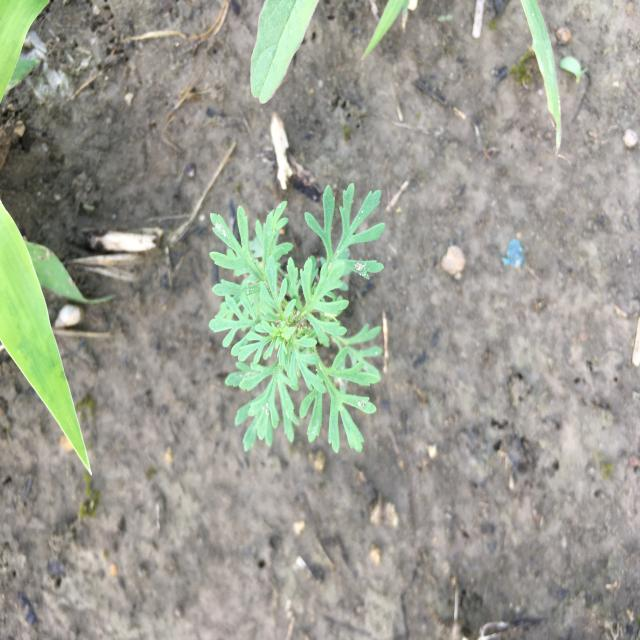Ragweed: (208, 180, 388, 454)
